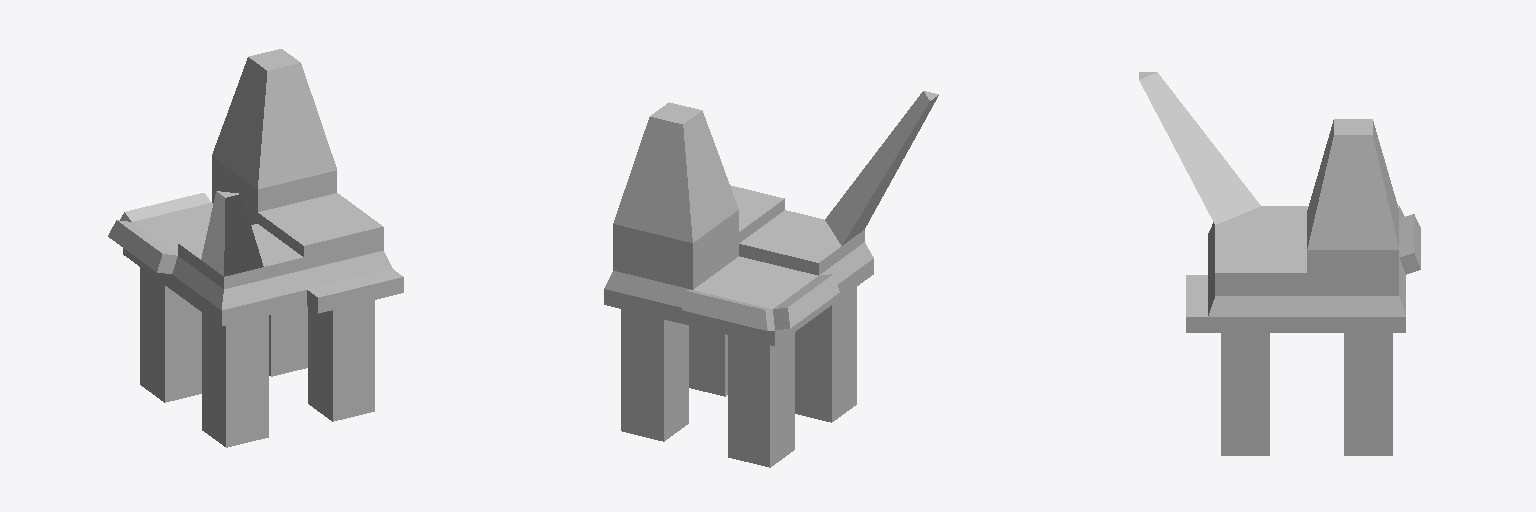
Rendered from oil-rig.obj.
3 renders of one model, left to right at view 1: azimuth 30°, elevation 25°; view 2: azimuth 150°, elevation 25°; view 3: azimuth 270°, elevation 25°, orthographic.
Parts seen in each view (by area): view 1: Cube; view 2: Cube; view 3: Cube.
Part boxes in pixels (bbox=[...]): Cube: bbox=[108, 49, 403, 447]; Cube: bbox=[604, 91, 938, 467]; Cube: bbox=[1139, 72, 1420, 455].
Size of the model in its own units: 3.88 by 5.73 by 4.69.